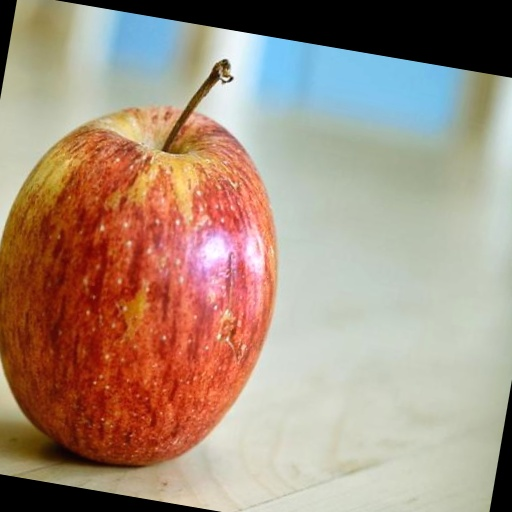fruit: (0, 107, 277, 464)
